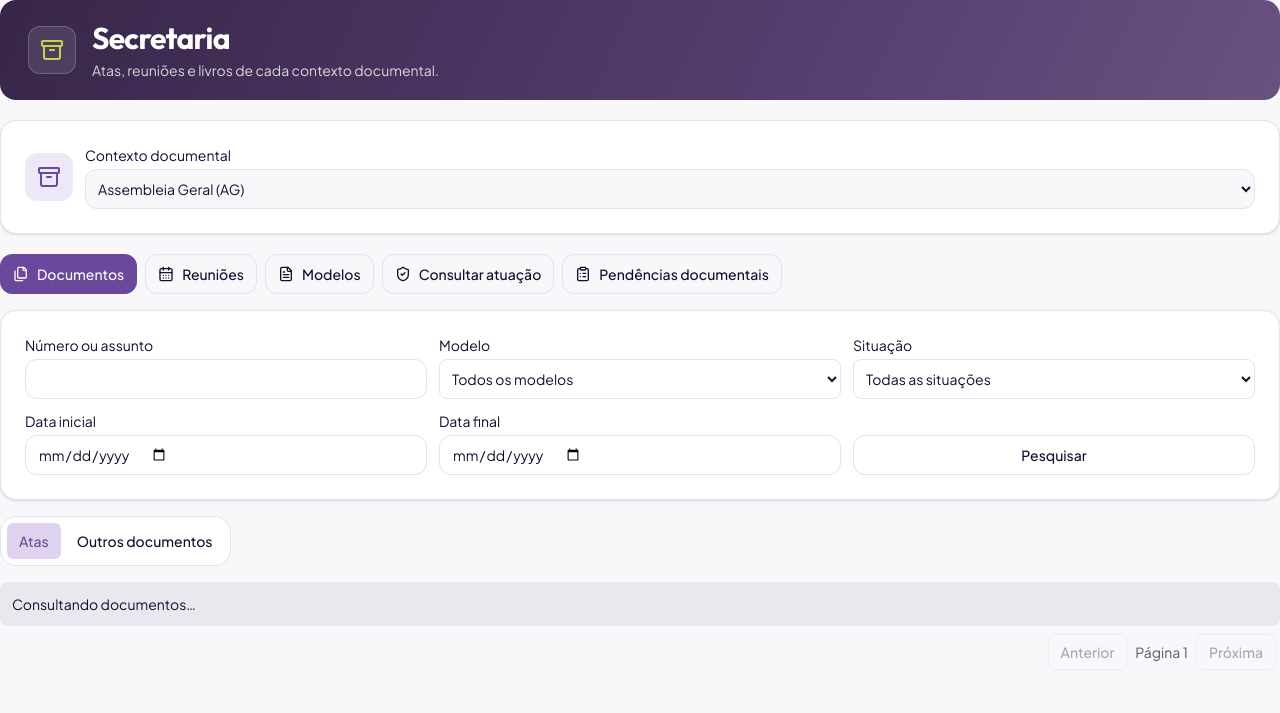
Test: E04: interface da secretaria › abre o edital da reunião a partir de ficha
Click the tab "Reuniões".
click(201, 274)  # box 145,254 -> 257,294
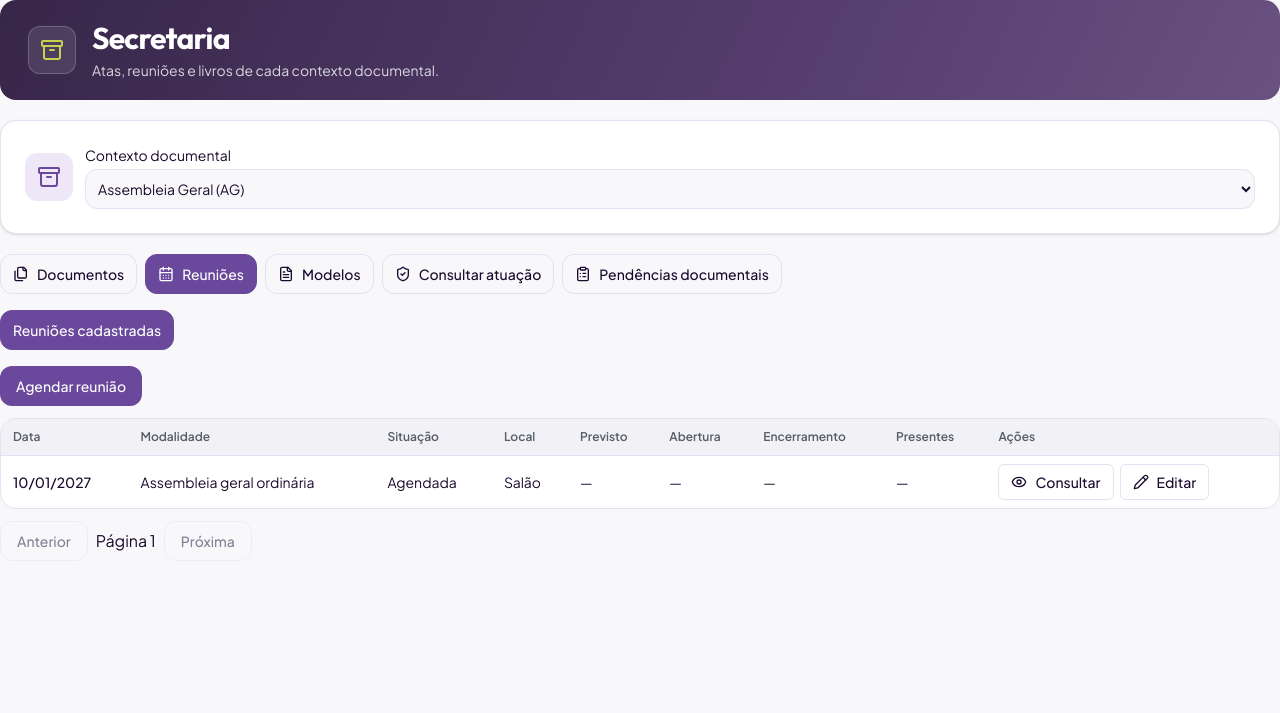
Click the button "Consultar".
click(1056, 482)  # box 998,464 -> 1114,500
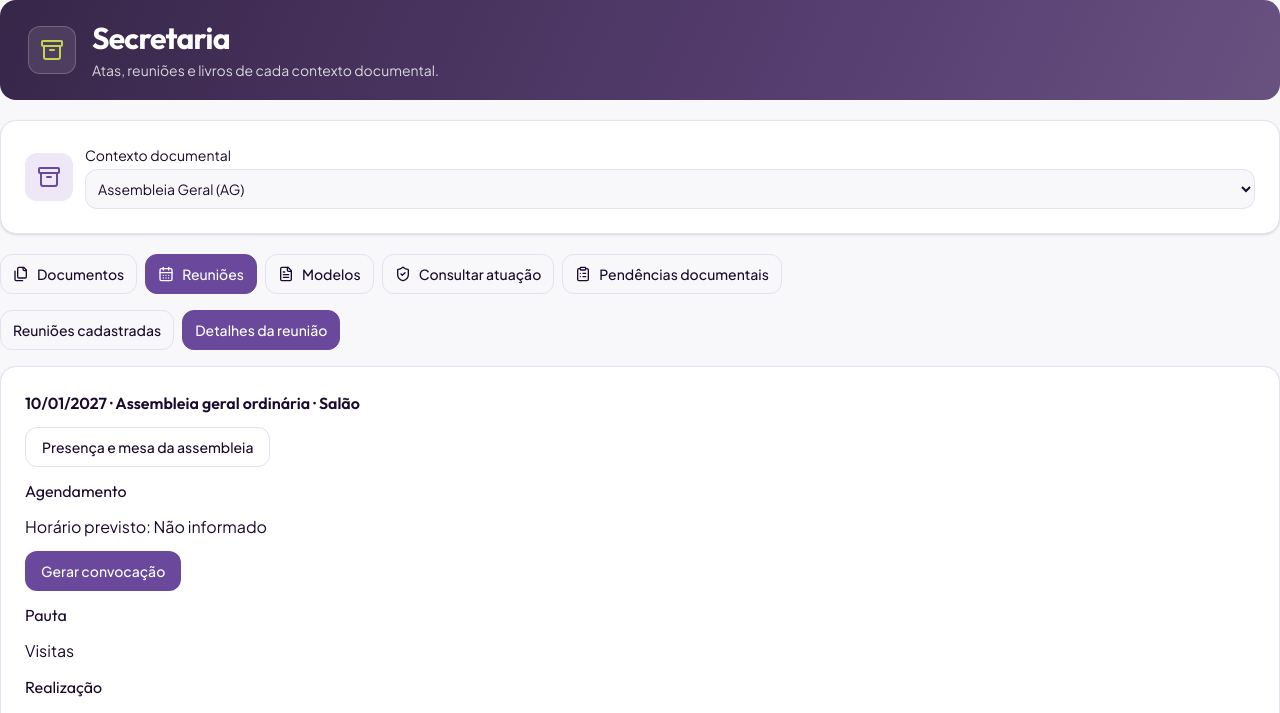
Click the button "Gerar convocação".
click(103, 571)  # box 25,551 -> 181,591
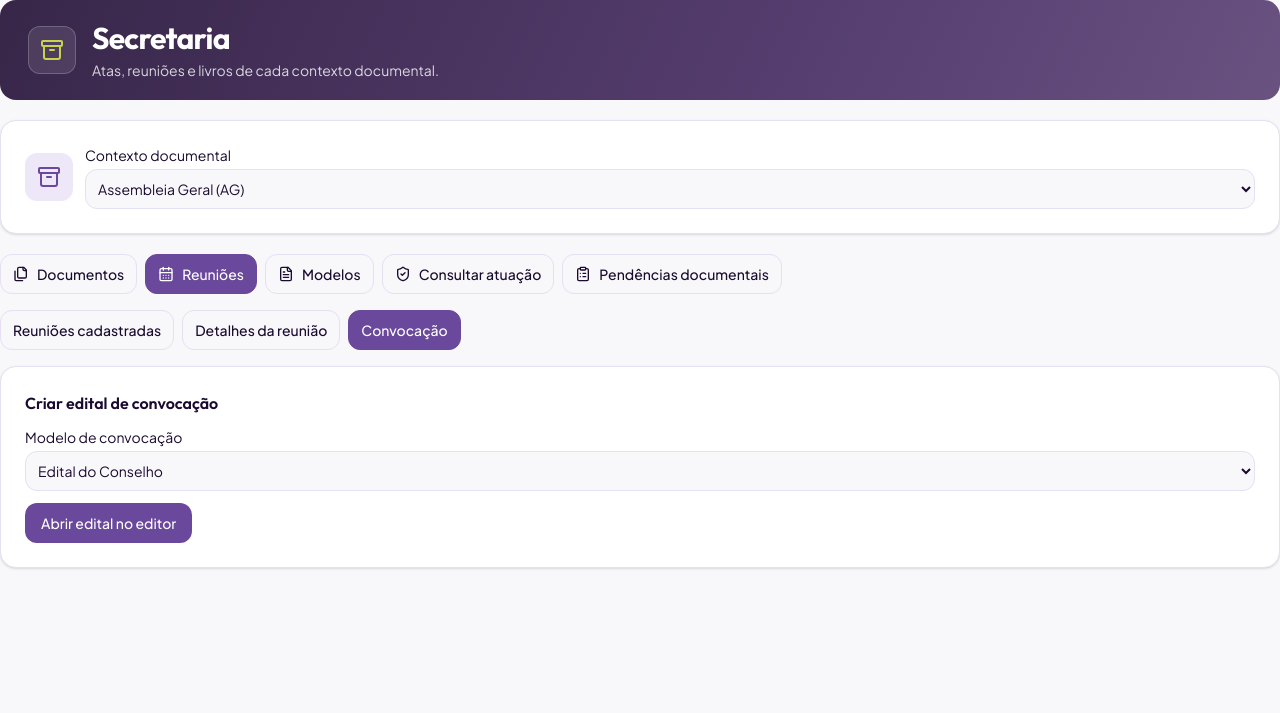
Click the button "Abrir edital no editor".
click(109, 523)  # box 25,503 -> 192,543
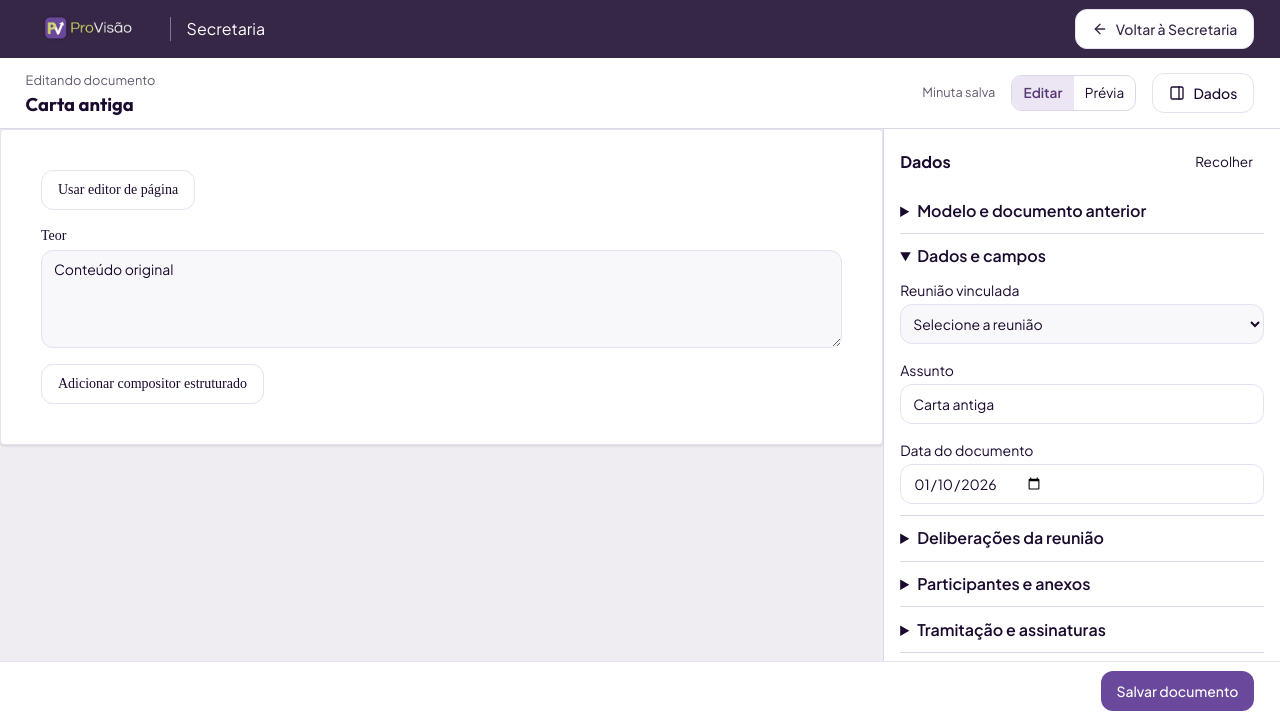
Expected: the button "Voltar à Secretaria" is shown, 1075,9 -> 1254,49
